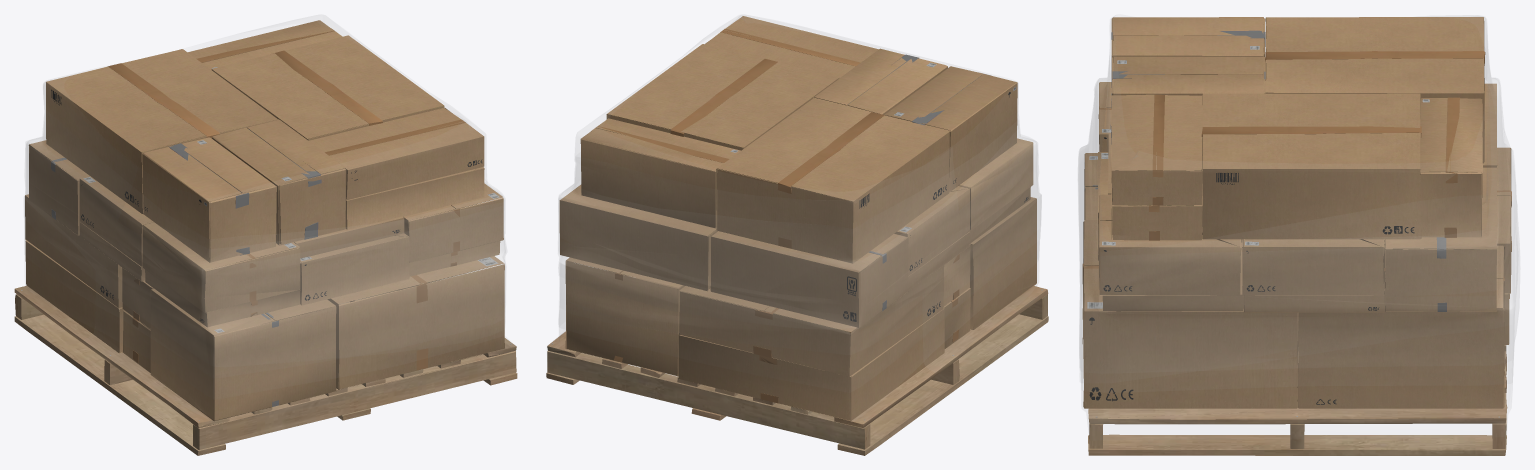
File: pallet_load_a04.glb
The picture shows the model from 3 angles, left to right: view 1: azimuth 30°, elevation 25°; view 2: azimuth 150°, elevation 25°; view 3: azimuth 270°, elevation 25°; orthographic projection. The views are drawn at different scales.
Parts seen in each view (by area): view 1: root; view 2: root; view 3: root.
Boxes of the visible parts, <box> form: root: <box>14,15,517,455</box>; root: <box>546,15,1048,455</box>; root: <box>1078,15,1519,455</box>.
Bounding box in the file's own units: 1.19 × 0.9015 × 1.26.
Materials: 5 (4 with a texture image).
